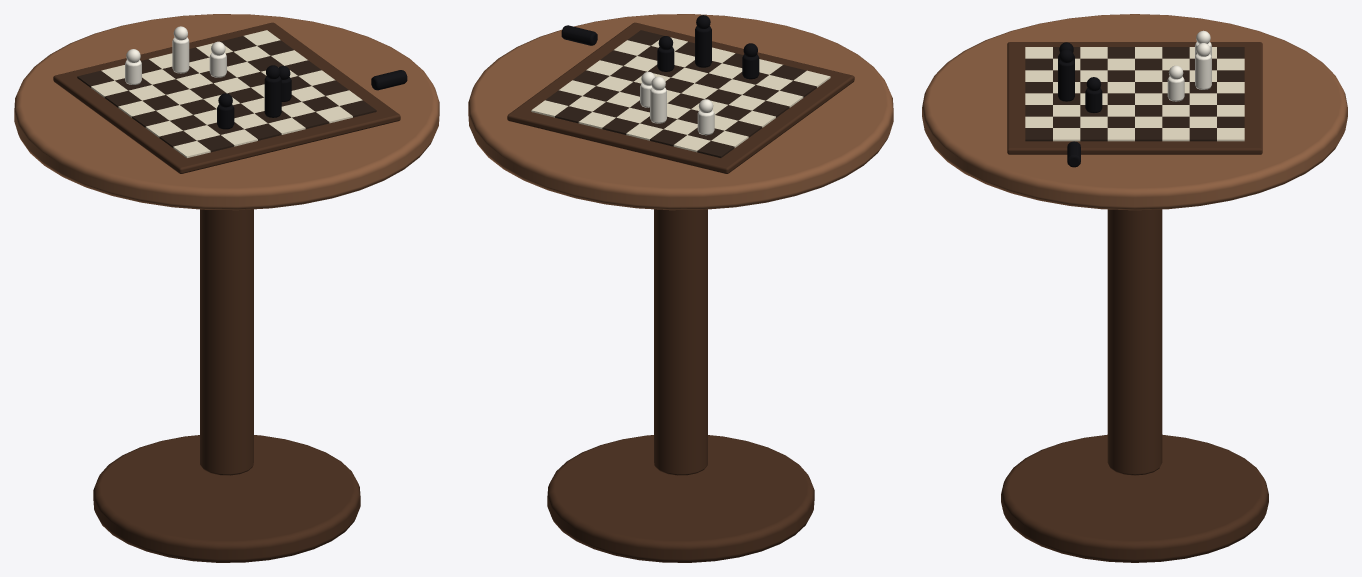
File: chess_table.glb
3 views of the same model, side by side, from view 1: azimuth 30°, elevation 25°; view 2: azimuth 150°, elevation 25°; view 3: azimuth 270°, elevation 25° (orthographic).
Visible parts, largest first — view 1: Cylinder, Cylinder.002, Cylinder.001, Cube, Cylinder.007, Cylinder.004, Cylinder.009; view 2: Cylinder, Cylinder.002, Cylinder.001, Cube, Cylinder.007, Cylinder.004, Cylinder.009; view 3: Cylinder, Cylinder.002, Cylinder.001, Cube, Cylinder.007, Cylinder.004.
Boxes of the visible parts, left/top/right/bottom form: Cylinder: left=14, top=14, right=439, bottom=210; Cylinder.002: left=93, top=435, right=360, bottom=562; Cylinder.001: left=200, top=209, right=253, bottom=475; Cube: left=53, top=22, right=400, bottom=173; Cylinder.007: left=264, top=76, right=281, bottom=117; Cylinder.004: left=172, top=37, right=189, bottom=73; Cylinder.009: left=371, top=70, right=407, bottom=90; Cylinder: left=468, top=14, right=893, bottom=210; Cylinder.002: left=547, top=435, right=814, bottom=562; Cylinder.001: left=654, top=209, right=707, bottom=475; Cube: left=507, top=22, right=854, bottom=173; Cylinder.007: left=695, top=26, right=711, bottom=67; Cylinder.004: left=650, top=87, right=666, bottom=123; Cylinder.009: left=561, top=25, right=597, bottom=45; Cylinder: left=922, top=14, right=1347, bottom=210; Cylinder.002: left=1001, top=434, right=1268, bottom=562; Cylinder.001: left=1107, top=209, right=1162, bottom=475; Cube: left=1007, top=42, right=1262, bottom=154; Cylinder.007: left=1058, top=60, right=1074, bottom=101; Cylinder.004: left=1195, top=54, right=1211, bottom=89.
Size of the model in its own units: 0.7 by 0.844 by 0.7.
